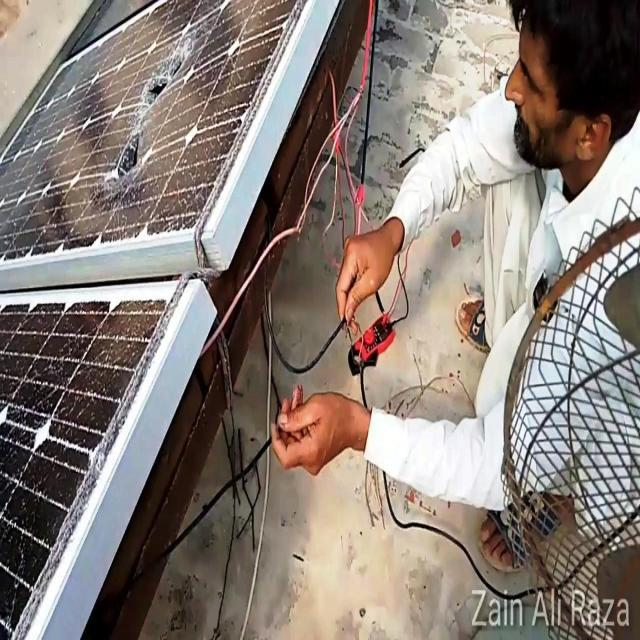faulty: (2, 3, 338, 264), (0, 275, 194, 640)
